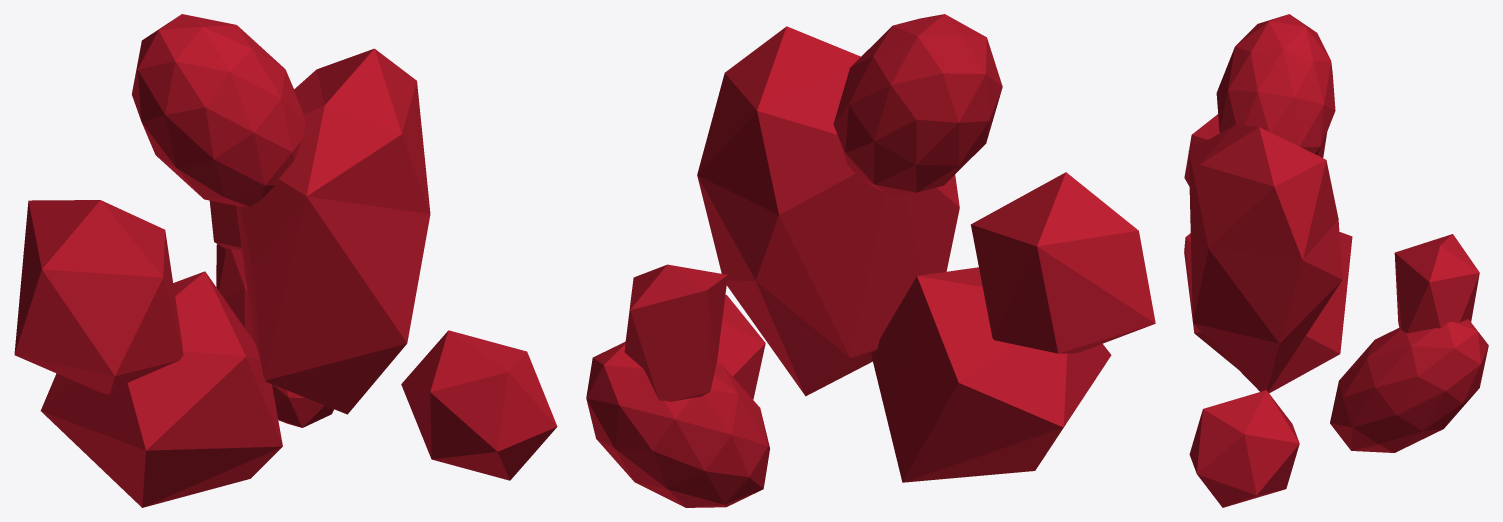
File: tree-dead-leaves-1-039.glb
3 renders of one model, left to right at view 1: azimuth 30°, elevation 25°; view 2: azimuth 150°, elevation 25°; view 3: azimuth 270°, elevation 25°, orthographic. The views are drawn at different scales.
Visible parts, largest first — view 1: TREE 1.007_495; view 2: TREE 1.007_495; view 3: TREE 1.007_495.
Boxes of the visible parts, x1=… form: TREE 1.007_495: x1=14, y1=14, x2=557, y2=507; TREE 1.007_495: x1=586, y1=14, x2=1155, y2=507; TREE 1.007_495: x1=1184, y1=14, x2=1488, y2=507.
Bounding box in the file's own units: 1.17 × 1.08 × 0.7756.
